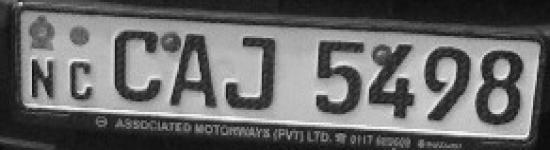4: (367, 39, 419, 122)
5: (311, 38, 365, 117)
8: (474, 46, 527, 130)
9: (422, 42, 474, 124)
A: (167, 29, 219, 113)
C: (112, 23, 162, 107), (66, 53, 97, 103)
J: (223, 34, 281, 114)
N: (26, 55, 59, 101)
